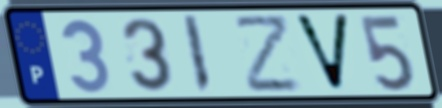3: (59, 15, 113, 96), (119, 16, 174, 94)
5: (356, 12, 419, 93)
I: (179, 13, 214, 96)
V: (290, 12, 352, 94)
Z: (231, 12, 303, 95)
